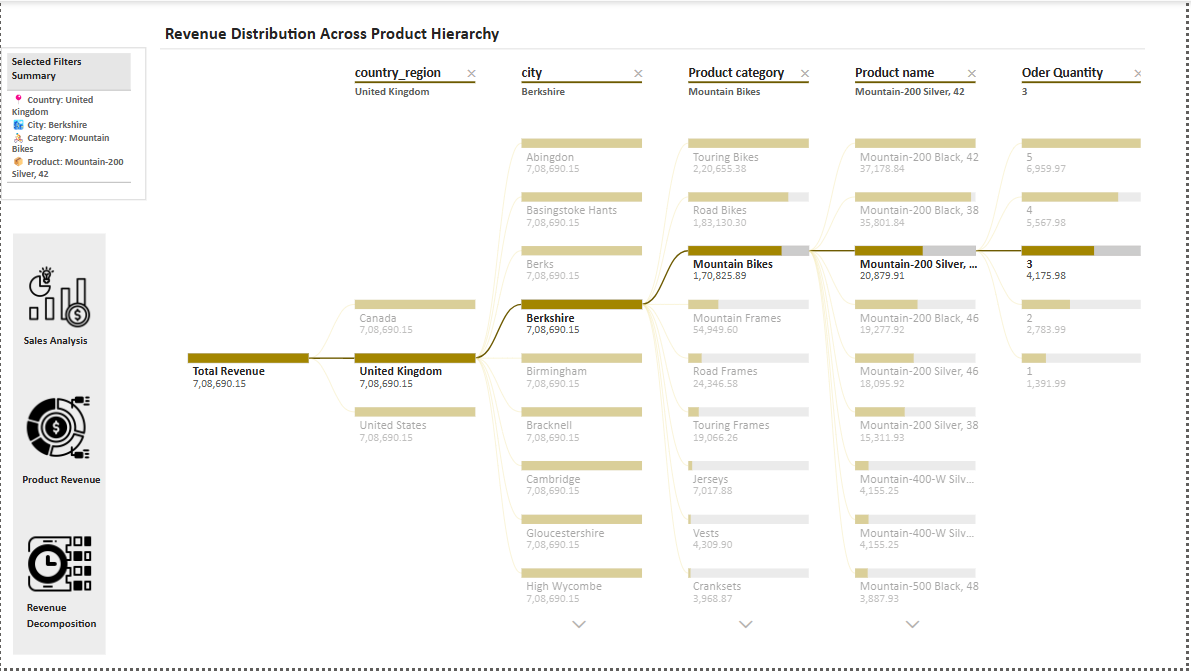

What the dashboard file says about the page in this screenshot:
{"tool":"powerbi","page":{"name":"Revenue Decomposition","canvas":[1280,720],"ordinal":2},"visuals":[{"type":"decompositionTreeVisual","title":"Revenue Distribution Across Product Hierarchy","fields":{"Analyze":["Sales Order Detail.Total Revenue"],"ExplainBy":["address.country_region","address.city","product category.name","product.name","Sales Order Detail.order_qty","Sales Order Header.ship_method"]},"box":[171.5,22,1063.5,673.8],"z":0},{"type":"group","id":"g1","title":"Group 1","box":[13.5,251.7,128.6,454.7],"z":1000},{"type":"tableEx","fields":{"Values":["address.Selected Filters Summary"]},"box":[0,49.4,156.4,164.7],"z":2000},{"type":"shape","box":[13.5,251.7,100.1,454.7],"z":17000,"group":"g1"},{"type":"image","box":[23,281.5,81.2,78.5],"z":18000,"group":"g1"},{"type":"image","box":[21.6,422.2,81,78.5],"z":19000,"group":"g1"},{"type":"image","box":[23,569.7,81.2,78.5],"z":20000,"group":"g1"},{"type":"textbox","box":[20.3,350.5,104.2,40.6],"z":21000,"group":"g1"},{"type":"textbox","box":[17.6,500.7,124.5,40.6],"z":22000,"group":"g1"},{"type":"textbox","box":[23,638.8,104.2,67.7],"z":23000,"group":"g1"}]}

Visuals, with their boxes in screenshot pixels (x1, y1, x2, y2), scaled from the page's 1280x720 canvas onto the 1191x671 screenshot:
"Revenue Distribution Across Product Hierarchy" decompositionTreeVisual: <region>160, 21, 1149, 648</region>
"Group 1" group: <region>13, 235, 132, 658</region>
tableEx - address.Selected Filters Summary: <region>0, 46, 146, 200</region>
shape: <region>13, 235, 106, 658</region>
image: <region>21, 262, 97, 336</region>
image: <region>20, 393, 95, 467</region>
image: <region>21, 531, 97, 604</region>
textbox: <region>19, 327, 116, 364</region>
textbox: <region>16, 467, 132, 504</region>
textbox: <region>21, 595, 118, 658</region>
